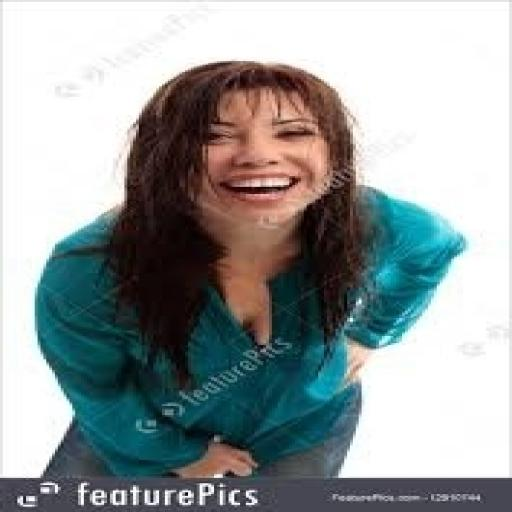laughing: (29, 54, 469, 478)
